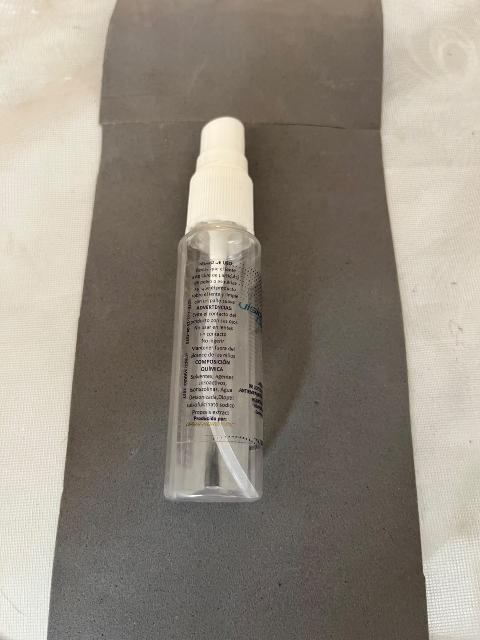PET: (123, 67, 325, 520)
